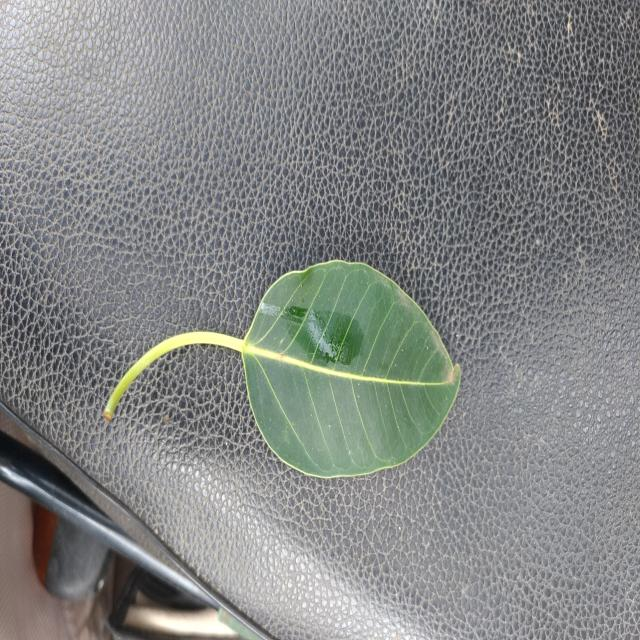camphor: (242, 260, 460, 478)
